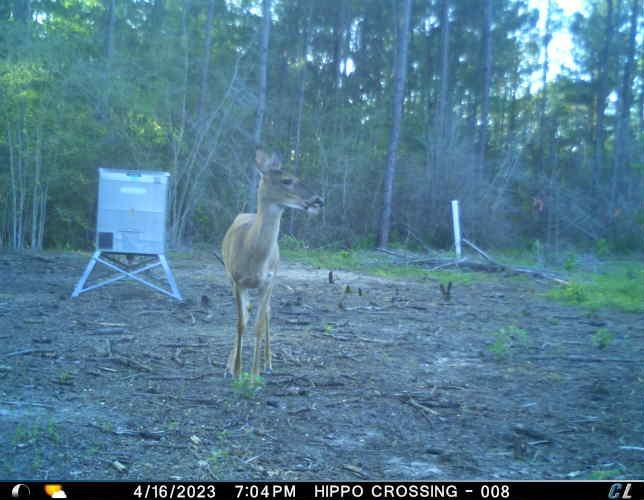Deer: (219, 147, 329, 385)
